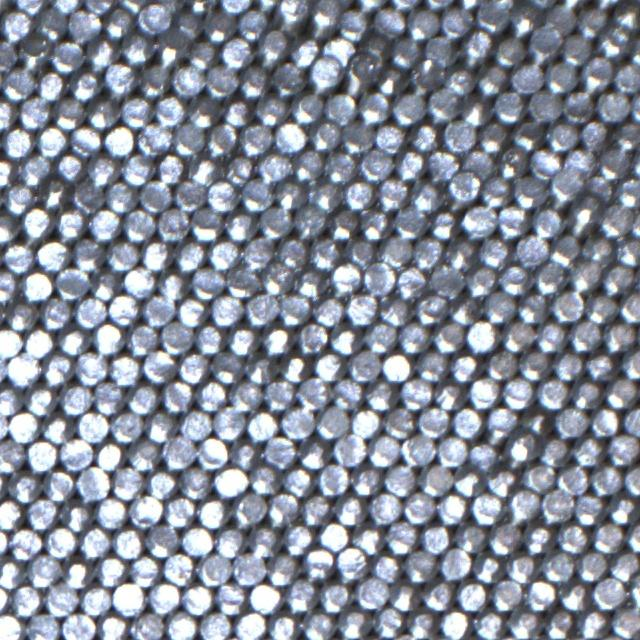tool: (43, 582, 78, 616), (270, 61, 304, 96), (544, 60, 578, 94), (232, 492, 266, 526), (540, 488, 574, 522), (66, 7, 100, 41), (498, 262, 532, 296), (492, 88, 526, 122), (331, 432, 365, 466), (442, 118, 476, 152), (209, 292, 243, 326), (509, 61, 543, 95), (488, 520, 522, 554), (136, 62, 170, 96), (290, 90, 324, 124), (178, 465, 212, 499), (159, 378, 193, 412), (54, 266, 88, 300), (361, 261, 395, 295), (314, 404, 348, 438), (238, 121, 272, 155), (509, 118, 543, 152), (414, 291, 448, 325), (567, 258, 601, 292), (224, 264, 258, 298), (516, 290, 550, 324), (512, 174, 546, 208), (551, 287, 584, 322), (156, 207, 189, 241), (36, 238, 70, 271), (190, 265, 223, 299), (400, 432, 433, 466), (462, 203, 495, 237), (145, 466, 178, 500), (70, 179, 104, 212), (120, 93, 153, 127), (258, 205, 291, 239), (522, 458, 555, 492), (464, 263, 498, 296), (475, 60, 508, 94), (602, 318, 635, 352), (88, 207, 121, 241), (534, 318, 567, 352), (372, 5, 405, 39), (458, 31, 492, 64), (347, 406, 381, 439), (439, 4, 472, 38), (527, 89, 560, 123), (541, 548, 574, 582), (106, 292, 139, 326), (120, 152, 154, 185), (143, 409, 177, 442), (334, 547, 368, 580), (573, 491, 606, 525), (158, 321, 192, 354), (84, 37, 118, 70), (110, 465, 143, 499), (484, 346, 518, 379), (560, 89, 594, 122), (393, 204, 426, 238), (384, 520, 418, 553), (293, 204, 326, 238), (266, 552, 300, 585), (173, 238, 206, 272), (260, 262, 294, 295), (500, 318, 534, 351), (366, 433, 399, 467), (374, 177, 408, 210), (8, 527, 42, 560), (72, 238, 105, 272), (336, 606, 369, 640), (137, 121, 170, 155), (372, 604, 405, 638), (128, 493, 162, 526), (398, 376, 432, 409), (260, 322, 294, 355), (402, 490, 435, 524), (52, 96, 86, 129), (137, 1, 171, 34), (491, 576, 524, 610), (125, 380, 158, 414), (205, 120, 238, 154), (255, 31, 289, 64), (467, 375, 501, 408), (354, 575, 388, 608), (254, 92, 288, 125), (284, 579, 317, 613), (76, 465, 109, 499), (50, 38, 83, 72), (423, 35, 456, 69), (292, 148, 325, 182), (26, 553, 59, 587), (102, 122, 135, 156), (102, 5, 136, 38), (34, 124, 68, 157), (564, 201, 597, 235), (429, 262, 462, 296), (91, 321, 124, 354), (472, 607, 505, 640), (470, 491, 503, 524), (207, 237, 240, 270), (195, 435, 228, 468), (384, 462, 417, 495), (575, 607, 608, 640), (140, 238, 173, 271), (568, 318, 601, 351), (368, 491, 401, 524), (323, 91, 356, 124), (344, 234, 377, 267), (571, 433, 604, 466), (295, 321, 328, 354), (193, 321, 226, 354), (465, 319, 498, 352), (196, 495, 229, 528), (59, 437, 92, 470), (419, 521, 452, 554), (345, 291, 378, 324), (263, 435, 296, 468), (245, 292, 278, 325), (493, 33, 526, 66), (142, 349, 175, 382), (171, 63, 204, 96), (91, 380, 124, 413), (241, 236, 274, 269), (9, 583, 42, 616), (356, 90, 389, 123), (545, 119, 578, 152), (591, 520, 624, 553), (42, 468, 75, 501), (266, 492, 299, 525), (120, 32, 153, 65), (560, 31, 593, 64), (587, 405, 620, 438), (172, 178, 205, 211), (247, 524, 280, 557), (194, 378, 227, 411), (425, 88, 458, 121), (20, 207, 53, 240), (190, 207, 223, 240), (222, 151, 255, 184), (171, 122, 204, 155), (477, 235, 510, 268), (444, 237, 477, 270), (574, 3, 607, 36), (533, 260, 566, 293), (178, 407, 211, 440), (403, 549, 436, 582), (311, 293, 344, 326), (112, 581, 145, 614), (205, 178, 238, 211), (461, 146, 494, 179), (6, 470, 39, 503), (548, 170, 581, 203), (237, 65, 270, 98), (482, 289, 515, 322), (536, 376, 569, 409), (248, 580, 281, 613), (147, 580, 180, 613), (174, 294, 207, 327), (507, 607, 540, 640), (446, 171, 479, 204), (86, 95, 119, 128), (214, 581, 247, 614), (558, 577, 591, 610), (127, 438, 160, 471), (506, 488, 539, 521), (324, 150, 357, 183), (319, 579, 352, 612), (25, 496, 58, 529), (257, 151, 290, 184), (607, 491, 640, 524), (503, 433, 536, 466), (341, 61, 374, 94), (379, 293, 412, 326), (94, 438, 126, 472), (420, 462, 452, 496), (123, 264, 155, 298), (162, 434, 194, 468), (214, 464, 246, 498), (95, 494, 127, 528), (103, 62, 135, 96), (548, 232, 580, 266), (395, 265, 427, 299), (390, 34, 422, 68), (73, 294, 105, 328), (406, 5, 438, 39), (272, 178, 306, 210), (186, 94, 220, 126), (432, 318, 464, 352), (586, 348, 618, 382), (78, 524, 110, 558), (67, 68, 101, 100), (438, 548, 472, 580), (520, 404, 554, 436), (608, 548, 640, 582), (302, 546, 334, 580), (154, 34, 188, 66), (153, 93, 185, 127), (364, 378, 398, 410), (580, 57, 612, 91), (328, 261, 360, 295), (505, 550, 537, 584), (278, 352, 312, 384), (408, 58, 442, 90), (435, 434, 467, 467), (105, 238, 138, 270), (513, 234, 546, 266), (122, 207, 154, 240), (597, 88, 629, 121), (58, 382, 91, 414), (552, 349, 585, 381), (317, 520, 350, 552), (7, 410, 40, 442), (317, 462, 349, 495), (411, 236, 444, 268), (18, 95, 50, 128), (246, 408, 278, 441), (538, 435, 570, 468), (141, 293, 174, 325), (20, 268, 53, 300), (248, 463, 280, 496), (585, 291, 617, 324), (274, 120, 306, 153), (224, 208, 256, 241), (398, 320, 430, 353), (297, 438, 330, 470), (17, 152, 50, 184), (146, 523, 179, 555), (440, 607, 472, 640), (590, 462, 622, 495), (299, 493, 331, 526), (308, 236, 341, 268), (435, 492, 468, 524), (602, 261, 634, 294), (54, 206, 86, 239), (391, 92, 424, 124), (110, 408, 142, 441), (308, 179, 340, 212), (484, 406, 516, 439), (180, 523, 213, 555), (41, 412, 74, 444), (187, 37, 219, 70), (468, 437, 500, 470), (104, 179, 136, 212), (56, 323, 89, 355), (308, 57, 340, 90), (341, 120, 373, 153), (417, 405, 449, 438), (450, 405, 482, 438), (575, 549, 608, 581), (214, 525, 246, 558), (34, 7, 66, 40), (94, 554, 127, 586), (369, 550, 402, 582), (232, 551, 264, 584), (5, 298, 38, 330), (33, 68, 66, 100), (333, 494, 366, 526), (416, 349, 448, 382), (598, 204, 631, 236), (359, 147, 391, 180), (125, 322, 157, 355), (22, 326, 55, 358), (213, 405, 245, 438), (312, 349, 345, 381), (163, 552, 196, 584), (381, 349, 413, 382), (501, 376, 534, 408), (282, 521, 314, 554), (280, 406, 312, 439), (87, 152, 119, 185), (112, 526, 145, 558), (138, 179, 170, 212), (449, 350, 482, 382), (301, 608, 334, 640), (425, 148, 458, 180), (296, 377, 328, 410), (358, 206, 391, 238), (6, 352, 38, 385), (522, 522, 555, 554), (220, 95, 253, 127), (407, 119, 439, 152), (597, 26, 630, 58), (556, 463, 589, 495), (61, 498, 94, 530), (406, 608, 439, 640), (331, 376, 363, 409), (408, 180, 441, 212), (524, 578, 557, 610), (375, 64, 407, 97), (74, 351, 106, 384), (570, 377, 602, 410), (543, 606, 575, 639), (326, 207, 359, 239), (604, 376, 637, 408), (212, 350, 244, 383), (128, 553, 160, 586), (276, 236, 308, 269), (422, 578, 455, 610), (428, 206, 460, 239), (293, 268, 326, 300), (108, 352, 140, 385), (1, 125, 34, 157), (378, 236, 411, 268), (41, 352, 73, 385), (556, 520, 588, 553), (530, 205, 562, 238), (528, 28, 560, 61), (1, 66, 33, 99), (228, 379, 260, 412), (389, 579, 422, 611), (177, 350, 210, 382), (585, 169, 617, 202), (432, 379, 465, 411), (456, 577, 488, 610), (25, 438, 57, 471), (262, 378, 295, 410), (329, 323, 362, 355), (226, 324, 259, 356), (24, 383, 56, 416), (61, 556, 94, 588), (454, 520, 486, 553), (355, 36, 388, 68), (479, 174, 512, 206), (540, 5, 572, 38), (54, 149, 86, 182), (220, 36, 252, 68), (519, 348, 551, 380), (282, 464, 314, 496), (323, 32, 355, 64), (350, 464, 382, 496), (40, 296, 72, 328), (44, 525, 76, 557), (348, 349, 380, 381), (163, 496, 195, 528), (198, 552, 230, 584), (79, 583, 111, 615), (337, 8, 369, 40), (181, 582, 213, 614), (236, 7, 268, 39), (308, 118, 340, 150), (290, 36, 322, 68), (496, 204, 528, 236), (594, 576, 626, 608), (364, 321, 396, 353), (598, 146, 630, 178), (496, 146, 528, 178), (172, 8, 204, 40), (240, 178, 272, 210), (443, 64, 475, 96), (69, 124, 101, 156), (382, 406, 414, 438), (2, 241, 34, 273), (342, 178, 374, 210), (554, 406, 586, 438), (3, 180, 35, 212), (156, 269, 188, 301), (154, 153, 186, 185), (565, 146, 597, 178), (352, 522, 384, 554), (476, 119, 508, 151), (472, 552, 504, 584), (579, 118, 611, 150), (529, 147, 561, 179), (277, 292, 309, 324), (188, 154, 220, 186), (204, 64, 236, 96), (606, 432, 638, 464), (38, 176, 70, 208), (203, 8, 235, 40), (76, 410, 108, 442), (581, 233, 613, 265), (228, 437, 260, 469), (233, 609, 266, 640), (486, 465, 519, 496), (89, 270, 122, 301), (508, 3, 539, 36), (130, 610, 164, 640), (374, 122, 406, 153), (453, 465, 484, 497), (394, 148, 425, 180), (476, 0, 508, 31), (244, 353, 276, 384), (18, 41, 50, 72), (0, 8, 31, 40), (458, 94, 490, 125), (165, 610, 198, 640), (611, 603, 640, 637), (268, 610, 300, 640), (448, 296, 480, 326), (95, 611, 128, 640), (62, 611, 95, 640), (198, 611, 231, 640), (613, 60, 640, 93), (26, 613, 59, 640), (613, 118, 640, 150), (0, 556, 26, 589), (0, 439, 25, 473), (615, 175, 640, 208), (613, 1, 640, 31), (615, 234, 640, 266), (0, 496, 23, 530), (310, 0, 342, 24), (618, 288, 640, 322), (277, 0, 308, 24), (0, 383, 22, 416), (0, 612, 24, 640), (0, 326, 21, 358), (0, 269, 20, 302), (621, 346, 640, 379), (0, 212, 18, 245), (0, 96, 17, 130), (623, 462, 640, 495), (0, 38, 17, 71), (623, 404, 640, 436), (0, 155, 16, 188), (625, 519, 640, 552), (152, 0, 184, 14), (220, 0, 252, 13), (14, 0, 46, 13), (49, 0, 80, 13)
